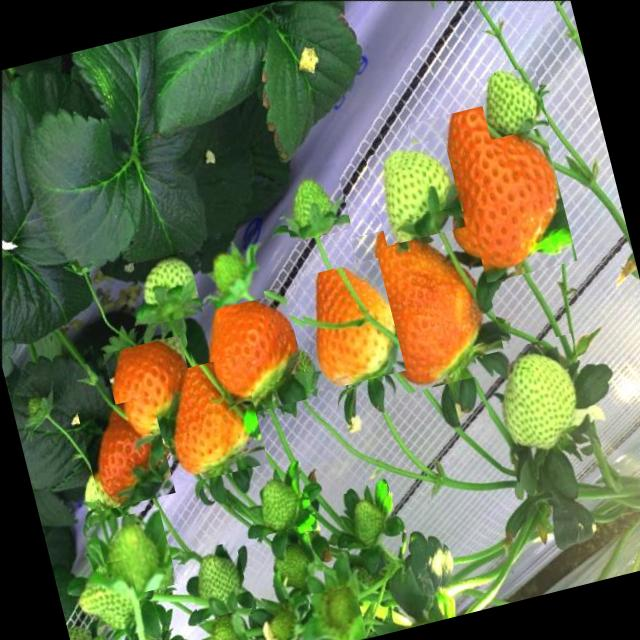ripe: (407, 92, 577, 292), (351, 209, 508, 398), (180, 286, 310, 423), (152, 354, 268, 486), (294, 258, 406, 392), (78, 395, 176, 511), (102, 334, 202, 446)
unripe: (474, 332, 598, 467), (364, 137, 466, 246), (94, 506, 178, 600), (65, 557, 145, 640), (276, 162, 352, 242), (182, 540, 252, 620), (476, 64, 549, 140), (132, 250, 202, 326), (335, 482, 403, 558), (262, 530, 328, 602), (243, 469, 311, 537), (200, 239, 264, 309), (308, 585, 368, 640), (256, 594, 313, 640)
